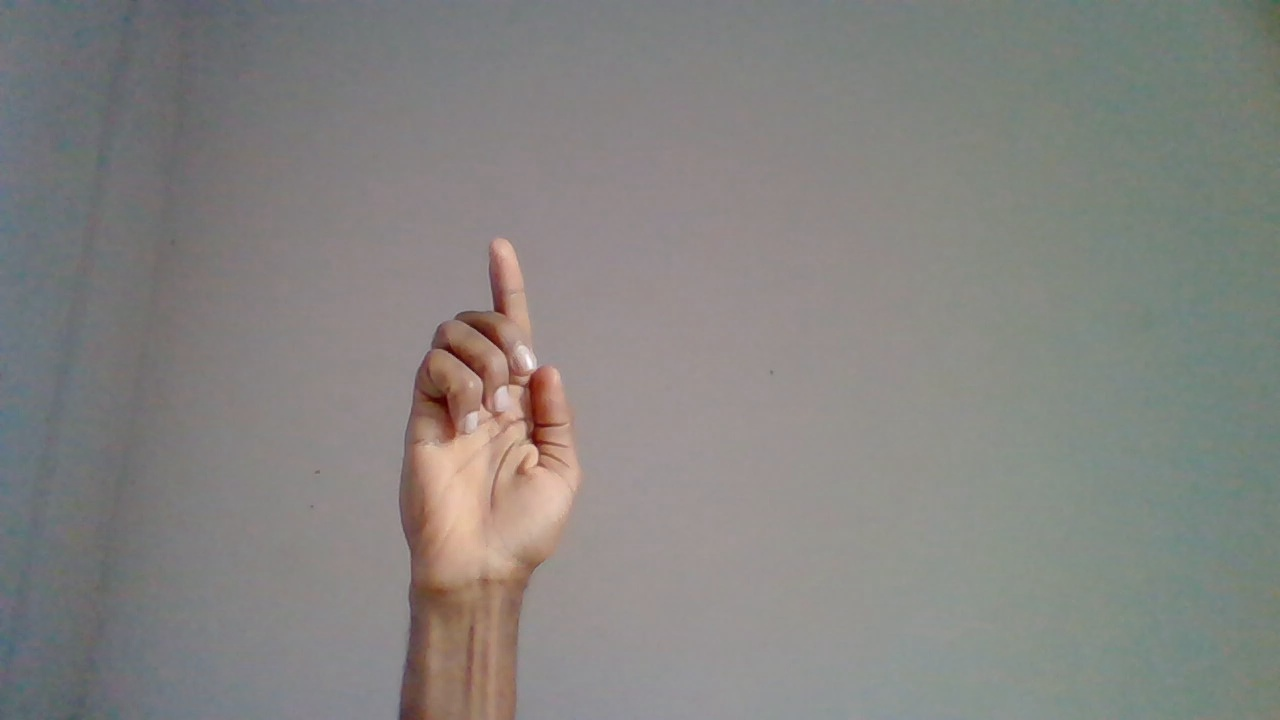qe: (400, 237, 587, 634)
